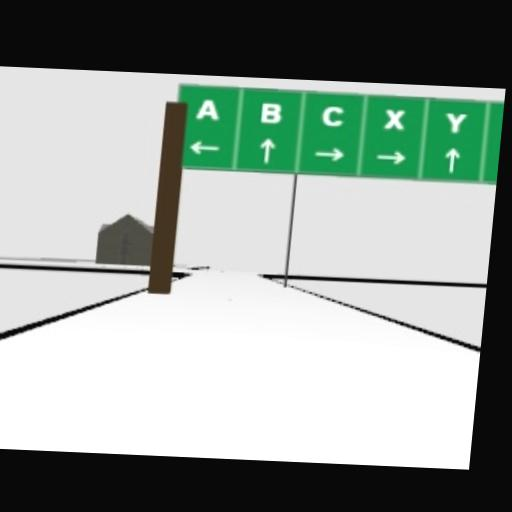A: (193, 97, 220, 120)
B: (259, 100, 282, 122)
C: (321, 103, 345, 125)
Left: (187, 139, 219, 154)
Right: (374, 148, 407, 164), (313, 145, 345, 160)
Straight: (259, 135, 275, 162), (443, 145, 460, 170)
X: (383, 106, 406, 128)
Y: (443, 111, 467, 133)
